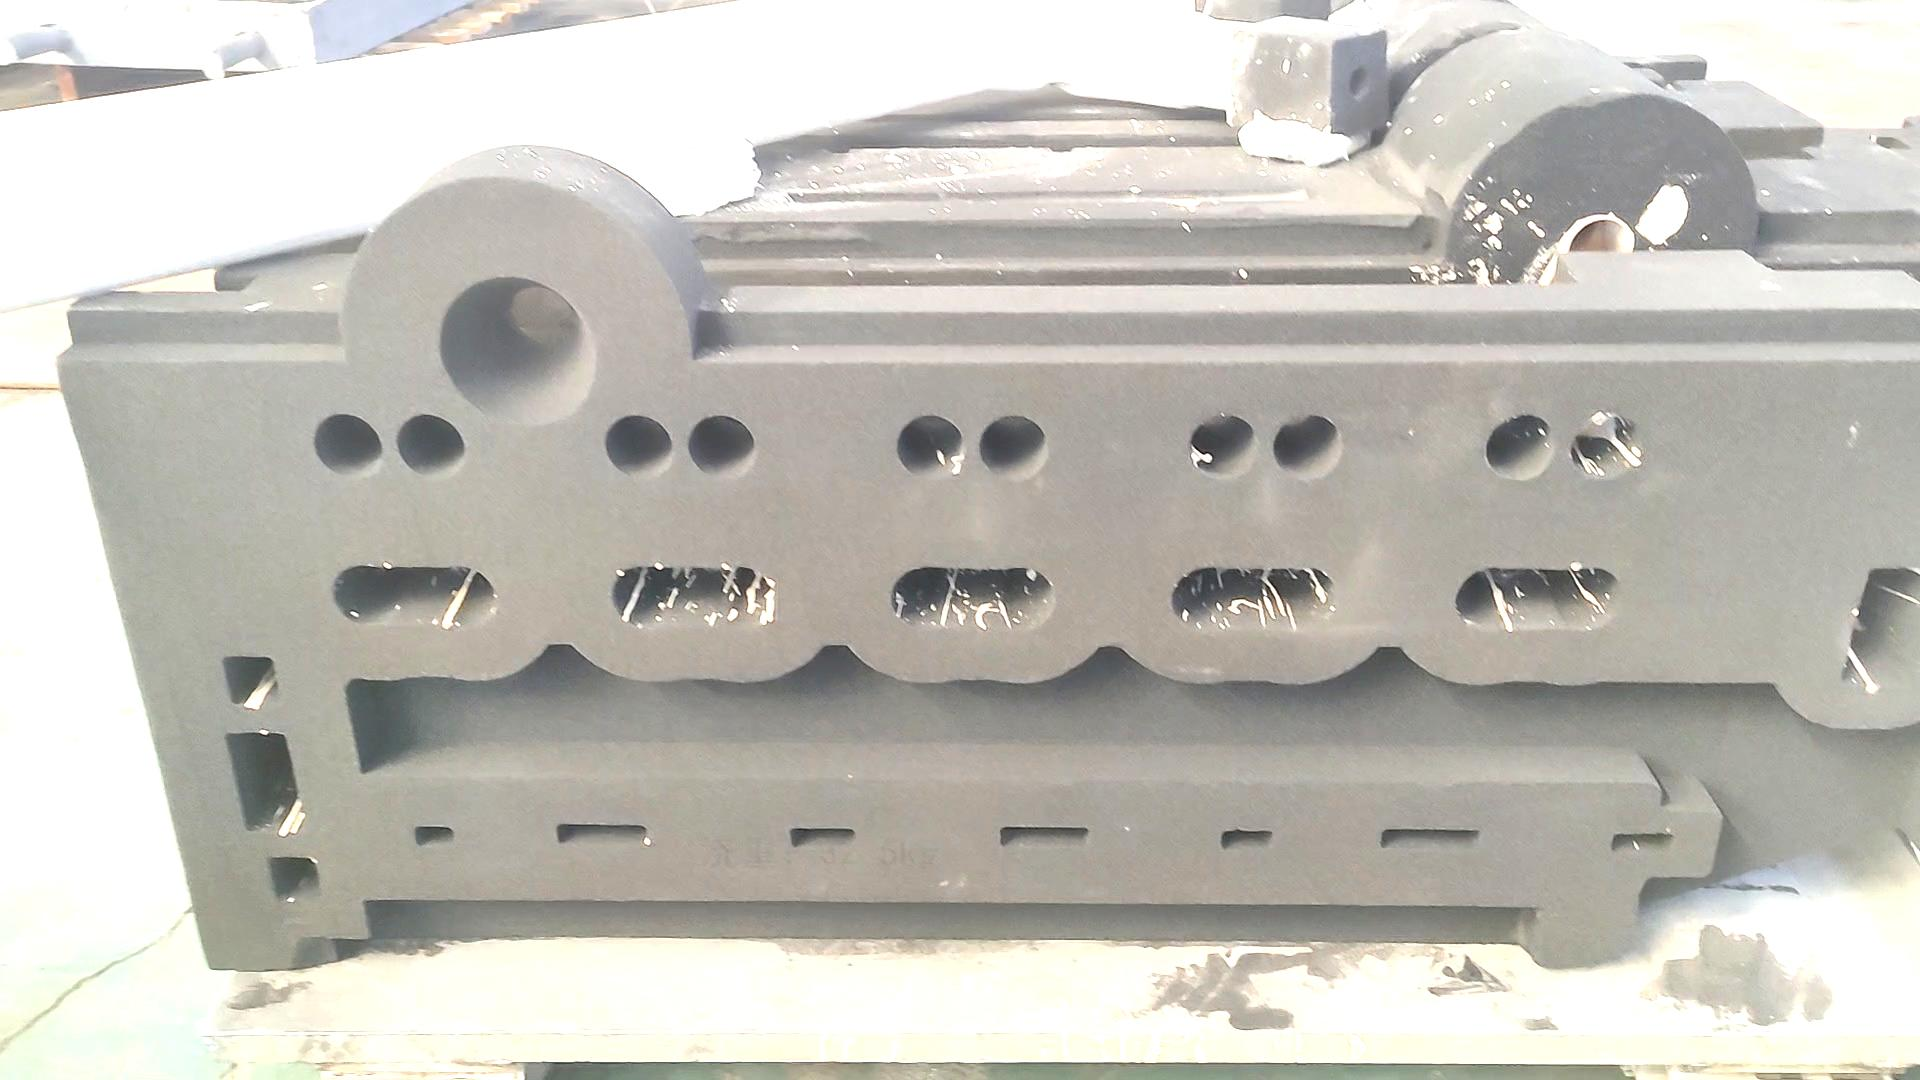pouring hole: (440, 276, 595, 427)
